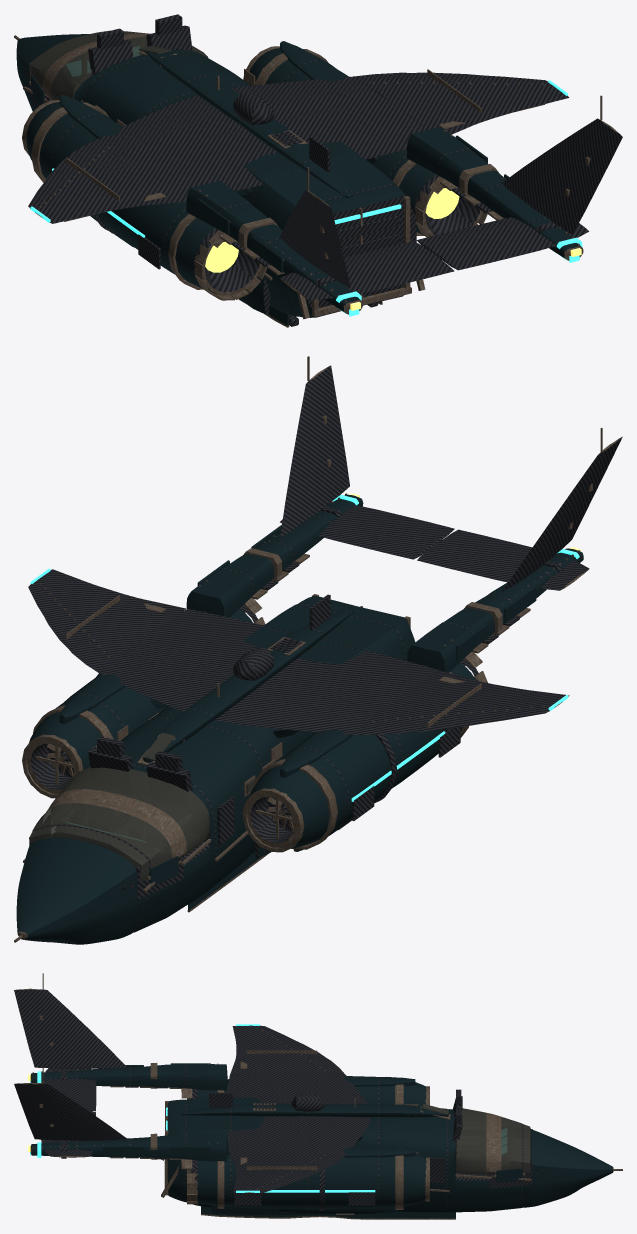
3 renders of one model, top to bottom at view 1: azimuth 30°, elevation 25°; view 2: azimuth 150°, elevation 25°; view 3: azimuth 270°, elevation 25°, orthographic. The views are drawn at different scales.
Visible parts, largest first — view 1: kb7_core, kb7_tail_r, kb7_tail_l, kb7_wing_r, kb7_wing_l, kb7_gear_down; view 2: kb7_core, kb7_tail_r, kb7_wing_r, kb7_tail_l, kb7_wing_l; view 3: kb7_core, kb7_tail_l, kb7_tail_r, kb7_wing_l, kb7_wing_r, kb7_gear_down.
Part boxes in pixels (x1=…): kb7_core: x1=14, y1=14, x2=583, y2=319; kb7_tail_r: x1=416, y1=95, x2=622, y2=270; kb7_tail_l: x1=279, y1=167, x2=454, y2=299; kb7_wing_r: x1=352, y1=69, x2=569, y2=134; kb7_wing_l: x1=28, y1=138, x2=185, y2=223; kb7_gear_down: x1=265, y1=301, x2=382, y2=327; kb7_core: x1=14, y1=493, x2=583, y2=944; kb7_tail_r: x1=280, y1=356, x2=454, y2=559; kb7_wing_r: x1=28, y1=568, x2=185, y2=672; kb7_tail_l: x1=417, y1=427, x2=622, y2=591; kb7_wing_l: x1=352, y1=670, x2=569, y2=734; kb7_core: x1=28, y1=1063, x2=622, y2=1214; kb7_tail_l: x1=14, y1=973, x2=126, y2=1111; kb7_tail_r: x1=14, y1=1067, x2=126, y2=1157; kb7_wing_l: x1=230, y1=1024, x2=344, y2=1074; kb7_wing_r: x1=230, y1=1153, x2=344, y2=1192; kb7_gear_down: x1=201, y1=1206, x2=455, y2=1219.
Bounding box in the file's own units: 5.9 × 3.02 × 9.08.
Materials: 10 (4 with a texture image).
